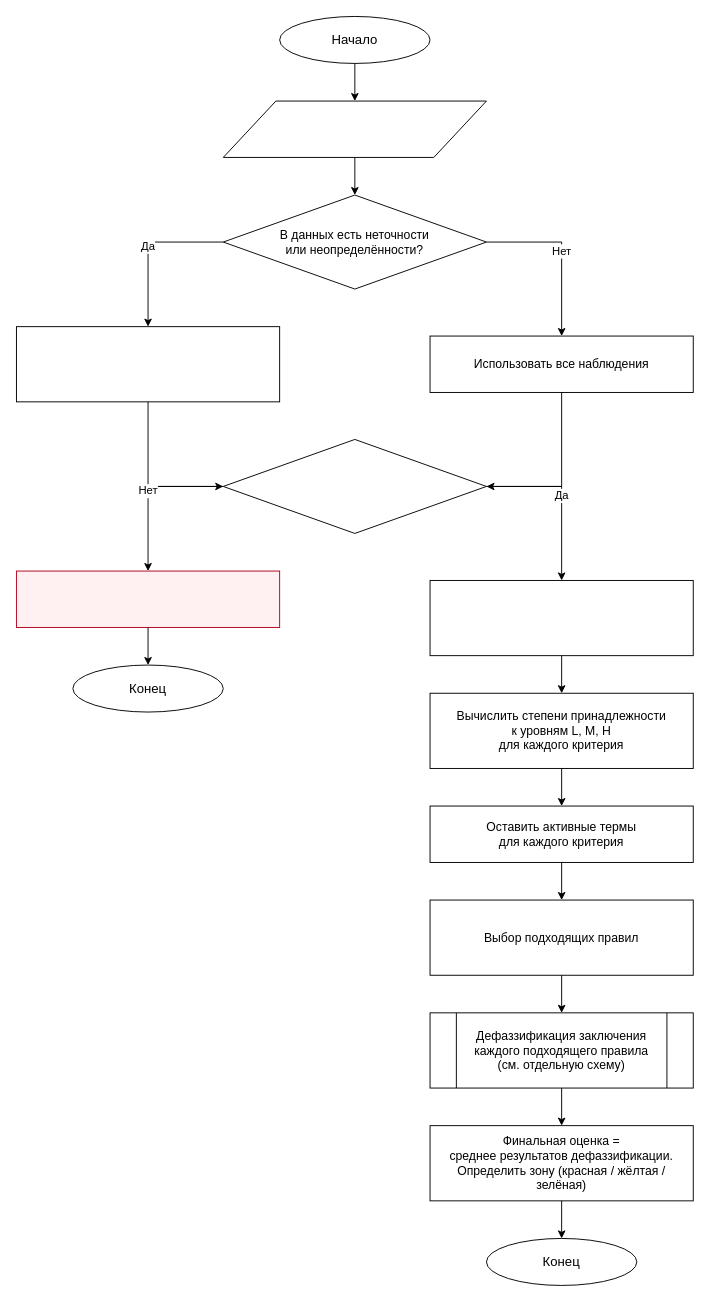
Image size: 710x1302. Some labels were removed from this diagram. The centre of each missing label's shape, as x and y in pixels:
Достаточно наблюдений для оценки тренда?: (x=354, y=486)
Определить направление (↑ / ↓) по корреляции значений со временем: (x=561, y=618)
Оставить только точные наблюдения: (x=148, y=364)
Оценка не формируется: недостаточно данных: (x=148, y=598)
Показатели поставщика по месяцам: (x=354, y=128)
